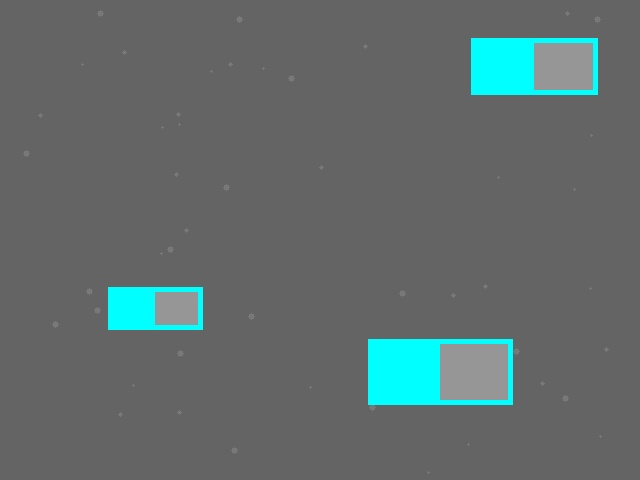truck: (368, 339, 512, 404), (471, 38, 597, 94), (108, 287, 202, 329)
